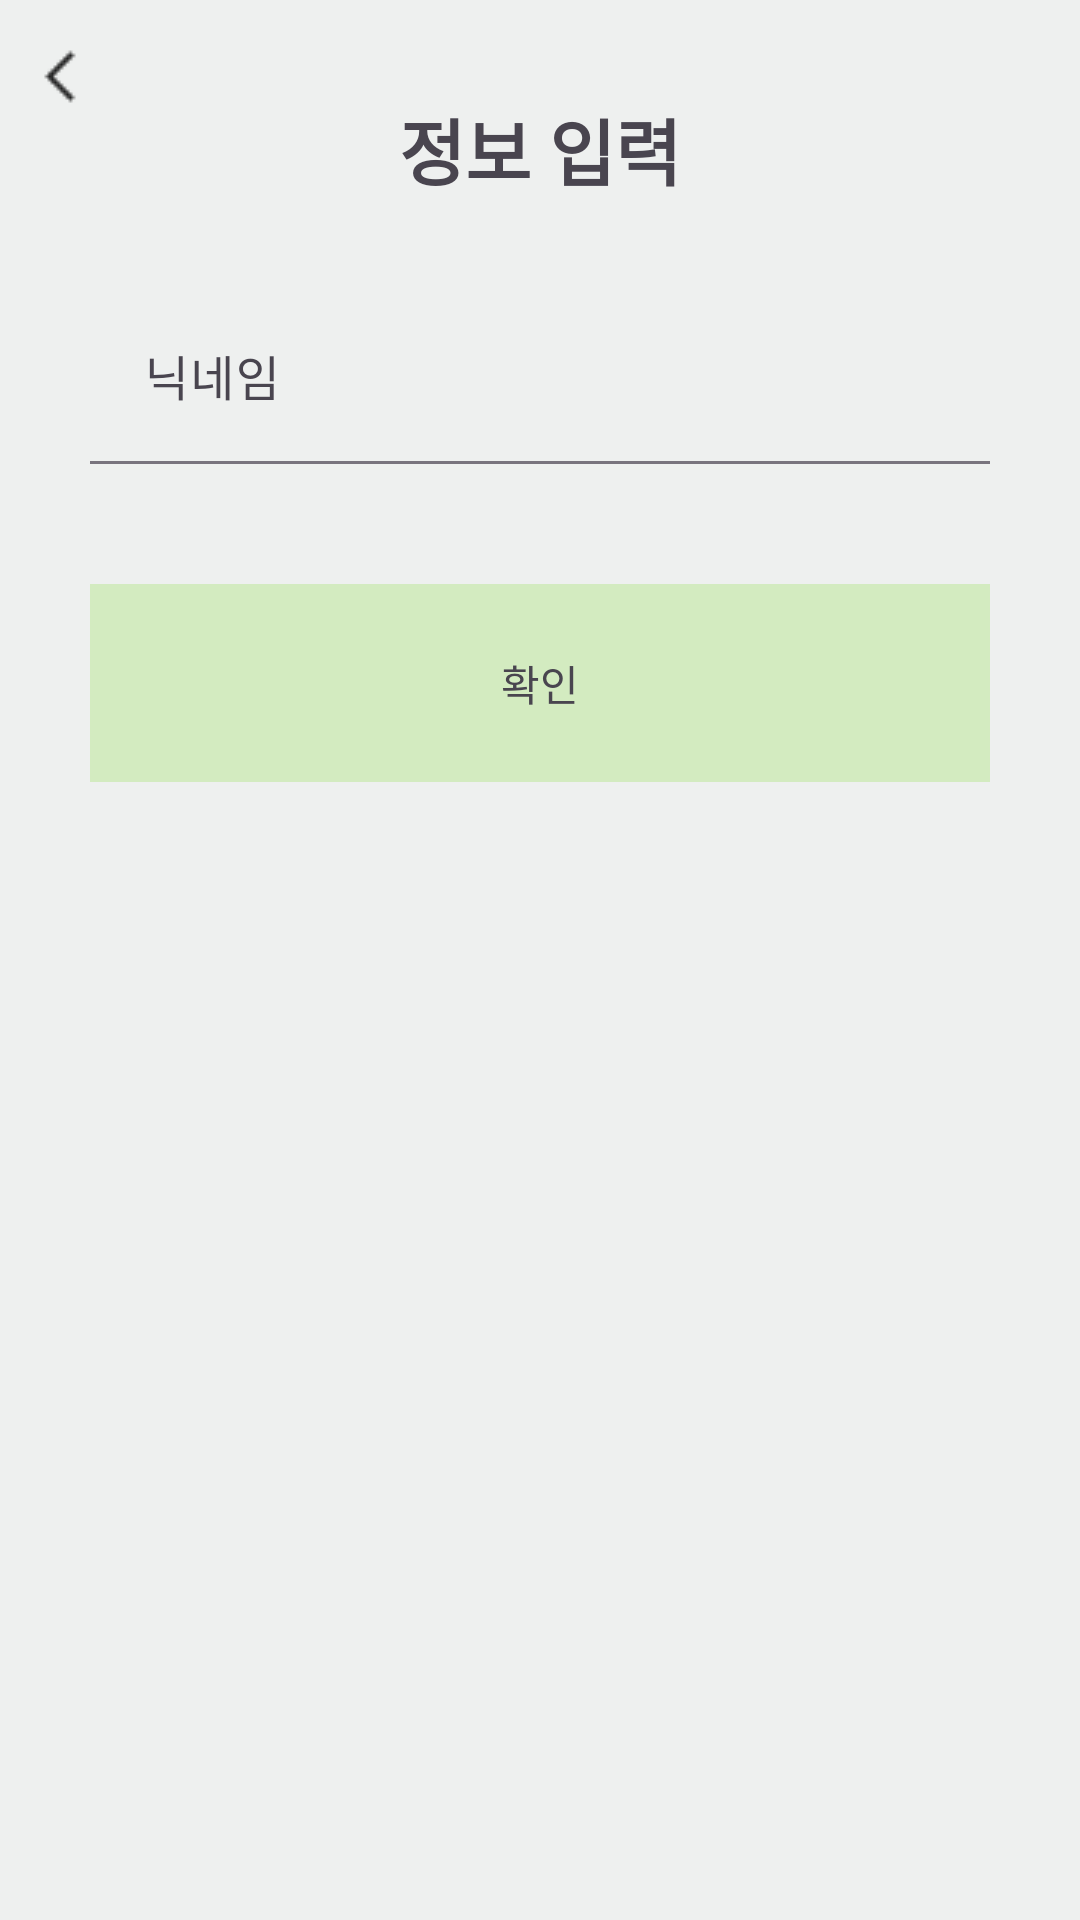

Screen size 1080 × 1920. Icon name, then its box in pixels as (x1, y1, x2, y2):
back arrow: (44, 50, 76, 103)
